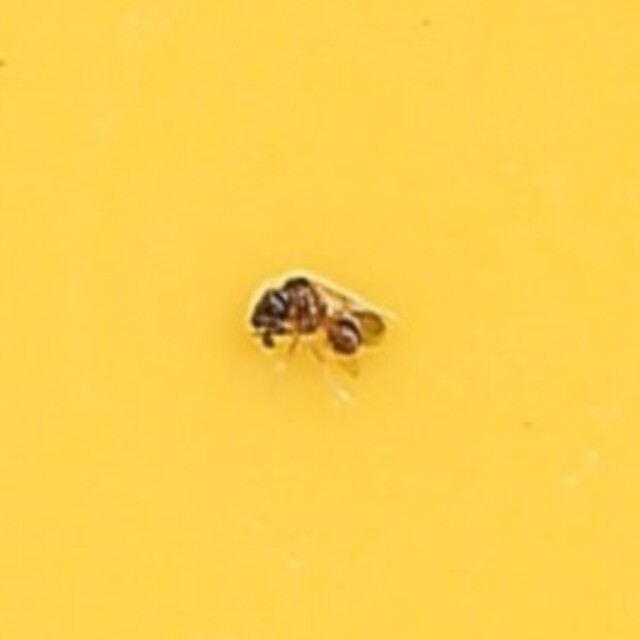Hymenoptera: (243, 262, 397, 378)
